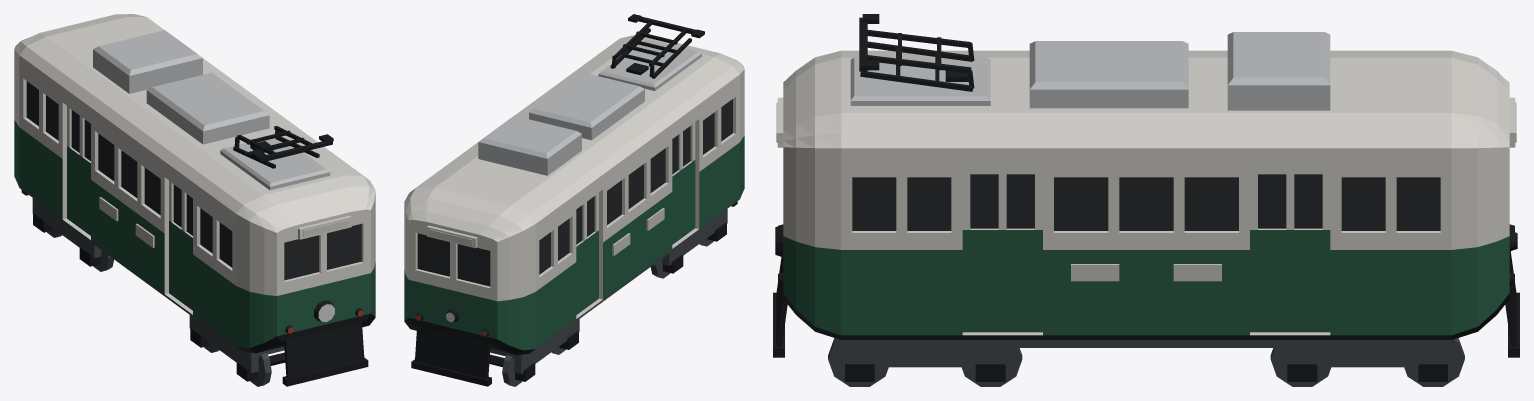
Rendered from city-tram-0d092d.glb.
3 views of the same model, side by side, from view 1: azimuth 30°, elevation 25°; view 2: azimuth 150°, elevation 25°; view 3: azimuth 270°, elevation 25° (orthographic). The views are drawn at different scales.
Visible parts, largest first — view 1: city-tram, pantograph, wheelset-f1; view 2: city-tram, pantograph, wheelset-r2; view 3: city-tram, pantograph, wheelset-f1, wheelset-r2, wheelset-f2, wheelset-r1.
Part boxes in pixels (x1,y1,x2,y2): city-tram: (14, 14, 375, 386); pantograph: (233, 126, 333, 168); wheelset-f1: (250, 352, 285, 386); city-tram: (404, 35, 744, 386); pantograph: (610, 14, 704, 78); wheelset-r2: (489, 354, 521, 386); city-tram: (773, 32, 1519, 381); pantograph: (859, 14, 974, 91); wheelset-f1: (828, 338, 888, 386); wheelset-r2: (1404, 338, 1464, 386); wheelset-f2: (961, 348, 1022, 386); wheelset-r1: (1270, 348, 1331, 386).
Bounding box in the file's own units: 2.4 × 3.75 × 8.
